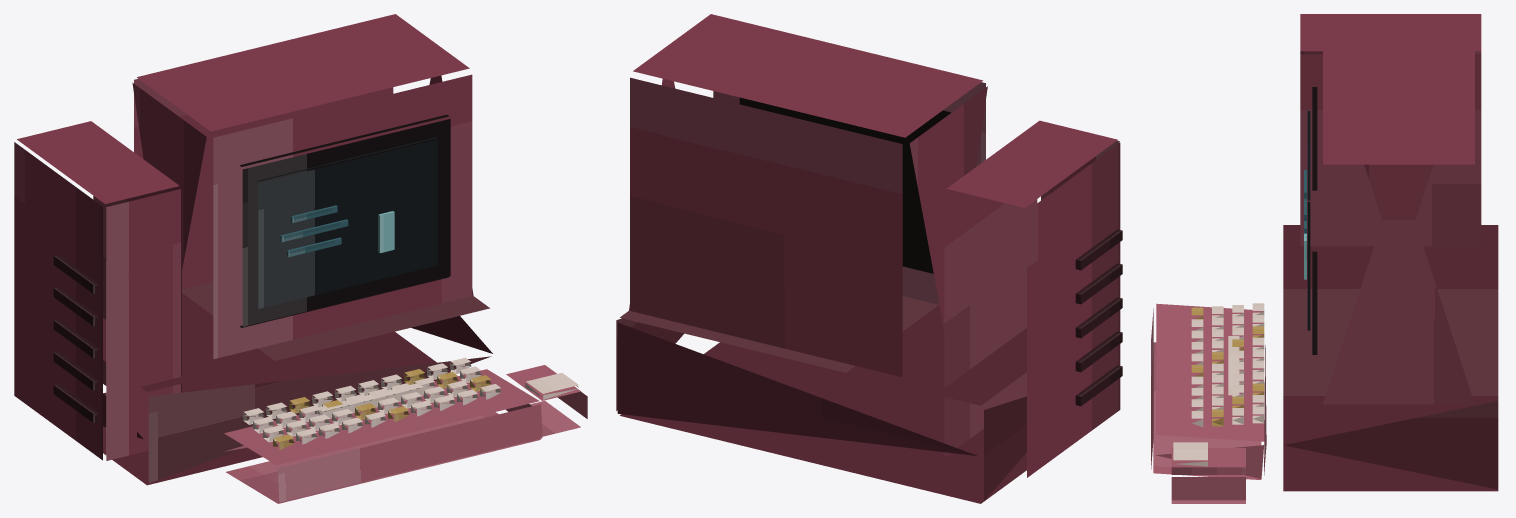
File: retro_computer_compact_burgundy.glb
3 views of the same model, side by side, from view 1: azimuth 30°, elevation 25°; view 2: azimuth 150°, elevation 25°; view 3: azimuth 270°, elevation 25° (orthographic). The views are drawn at different scales.
Visible parts, largest first — view 1: MonitorShell, SideExpansion, CompactBase, MonitorGlow, KeyboardBody, MonitorFace, Mouse, SpaceBar, MouseButton, ScreenGlyph_4, SideVent_1, SideVent_0 (+3 smaller); view 2: MonitorShell, CompactBase, SideExpansion, MonitorFace, SideVent_3, SideVent_4, SideVent_0, SideVent_2, SideVent_1; view 3: MonitorShell, CompactBase, SideExpansion, KeyboardBody, Mouse, MonitorFace, MonitorGlow, MouseButton, SpaceBar.
Part boxes in pixels (bbox=[...]): MonitorShell: bbox=[132, 14, 473, 359]; SideExpansion: bbox=[14, 121, 181, 460]; CompactBase: bbox=[103, 282, 492, 485]; MonitorGlow: bbox=[257, 137, 438, 308]; KeyboardBody: bbox=[224, 369, 542, 503]; MonitorFace: bbox=[239, 114, 450, 327]; Mouse: bbox=[506, 365, 587, 436]; SpaceBar: bbox=[317, 383, 423, 419]; MouseButton: bbox=[525, 373, 578, 399]; ScreenGlyph_4: bbox=[378, 211, 394, 253]; SideVent_1: bbox=[53, 351, 98, 390]; SideVent_0: bbox=[53, 384, 98, 422]; MonitorShell: bbox=[629, 14, 987, 377]; CompactBase: bbox=[616, 296, 1026, 503]; SideExpansion: bbox=[944, 120, 1120, 477]; MonitorFace: bbox=[739, 97, 951, 273]; SideVent_3: bbox=[1075, 263, 1122, 304]; SideVent_4: bbox=[1075, 229, 1122, 270]; SideVent_0: bbox=[1075, 365, 1122, 406]; SideVent_2: bbox=[1075, 297, 1122, 338]; SideVent_1: bbox=[1075, 331, 1122, 372]; MonitorShell: bbox=[1323, 35, 1474, 404]; CompactBase: bbox=[1283, 225, 1498, 491]; SideExpansion: bbox=[1300, 14, 1481, 246]; KeyboardBody: bbox=[1151, 303, 1266, 479]; Mouse: bbox=[1171, 448, 1245, 503]; MonitorFace: bbox=[1312, 87, 1317, 354]; MonitorGlow: bbox=[1307, 111, 1310, 330]; MouseButton: bbox=[1173, 442, 1207, 466]; SpaceBar: bbox=[1228, 336, 1239, 395].
Bounding box in the file's own units: 1.25 × 0.89 × 0.8679.
Materials: 1 (1 with a texture image).
